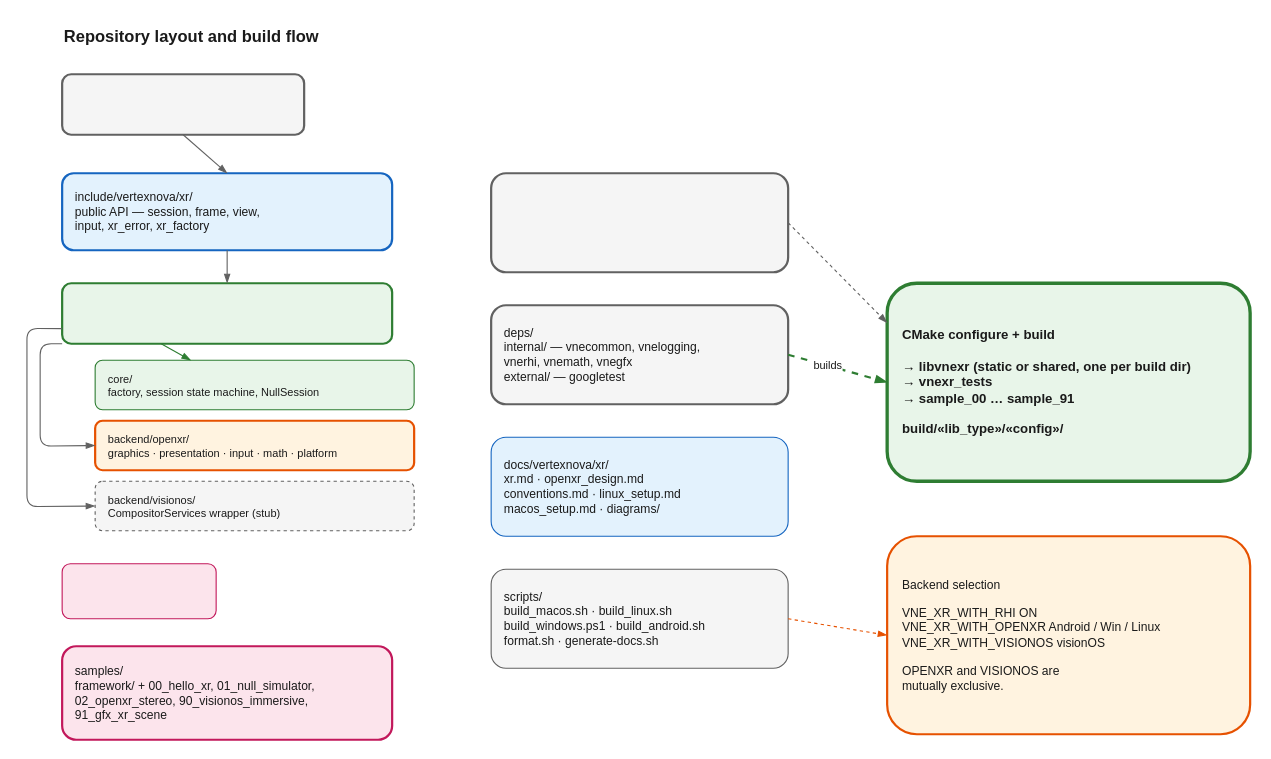
This 1271x759 diagram has some shape labels left out. Each missing label, with the centre of its shape:
cmake/ vnecmake (submodule) VneXrDeps · VneXrRhi VneXrOpenXR · VneXrVisionOS: [639,222]
src/vertexnova/xr/ implementation — never installed: [227,313]
tests/ Google Test: [138,591]
vnexr/ (root) VERSION · CMakeLists.txt: [183,104]
